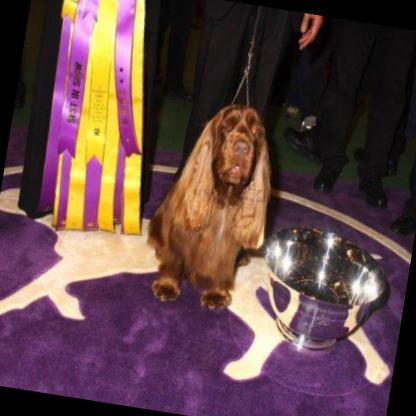Sussex_spaniel: (135, 90, 283, 316)
